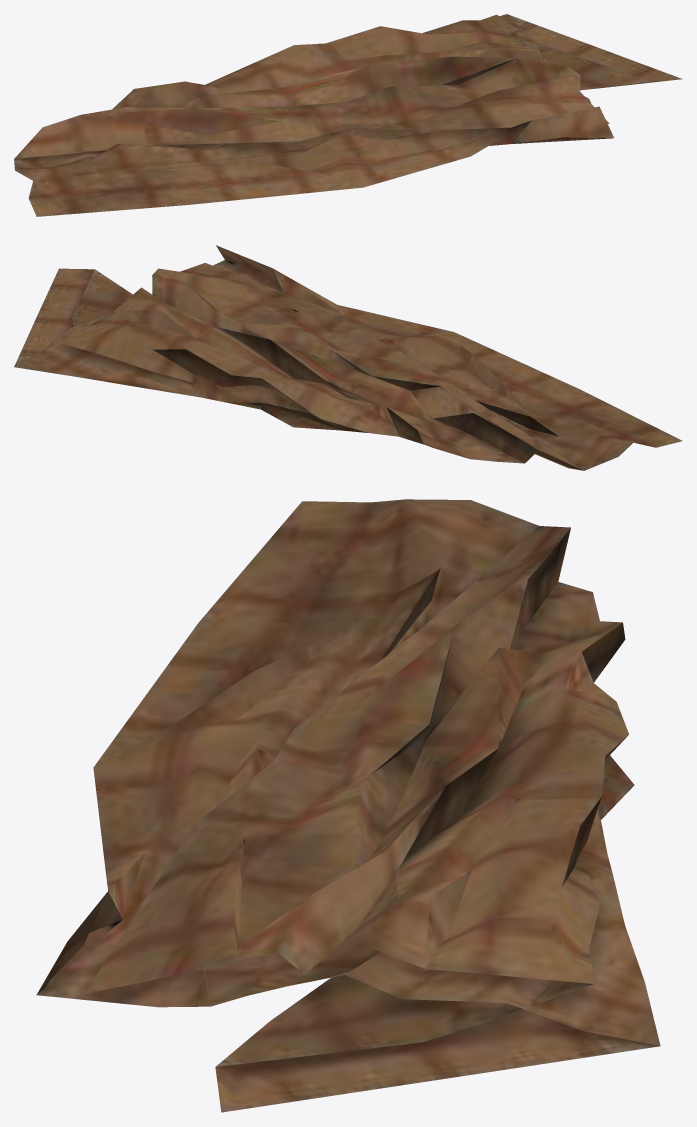
Rendered from rag_blanket_1_lod1_web.glb.
3 renders of one model, top to bottom at view 1: azimuth 30°, elevation 25°; view 2: azimuth 150°, elevation 25°; view 3: azimuth 270°, elevation 25°, orthographic. The views are drawn at different scales.
Visible parts, largest first — view 1: rag_blanket_1_Cloth; view 2: rag_blanket_1_Cloth; view 3: rag_blanket_1_Cloth.
Part boxes in pixels (x1,y1,x2,y2): rag_blanket_1_Cloth: (14,14,682,216); rag_blanket_1_Cloth: (14,245,682,470); rag_blanket_1_Cloth: (36,499,660,1112).
Size of the model in its own units: 1.8 by 0.1111 by 0.7784.
Materials: 1 (1 with a texture image).
